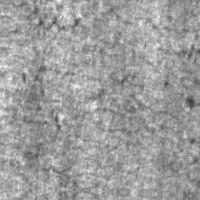crazing: (18, 63, 167, 137), (6, 0, 129, 32)
